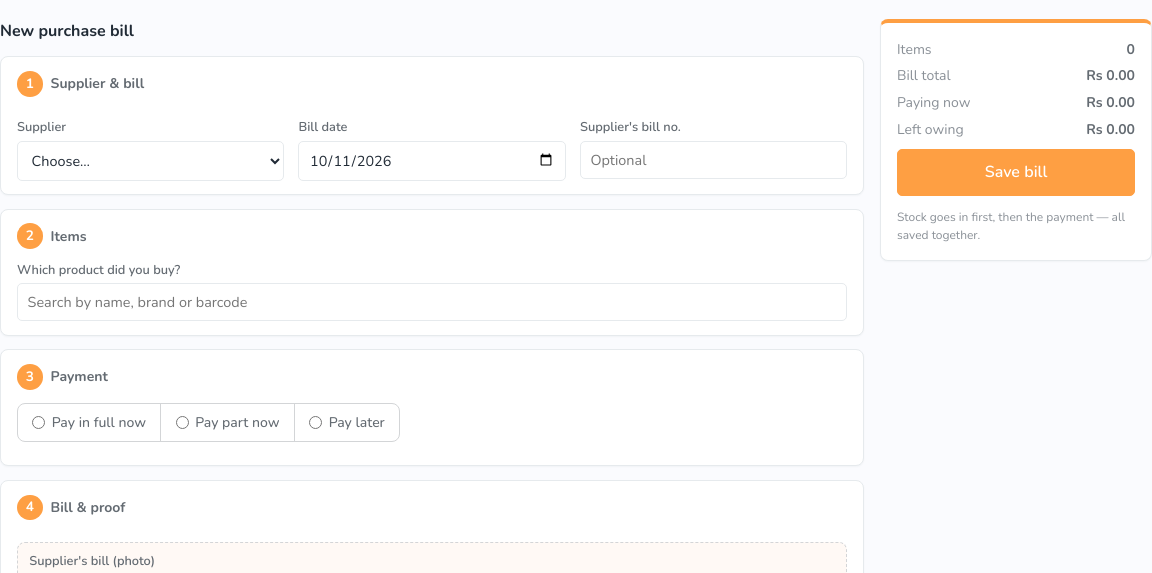
Test: buying a product that does not exist yet › creates nothing when the form is cancelled
Type "Wireless Charger" into the field labelled "Which product did you buy?" at {"x": 432, "y": 302}, box [17,283,847,321]
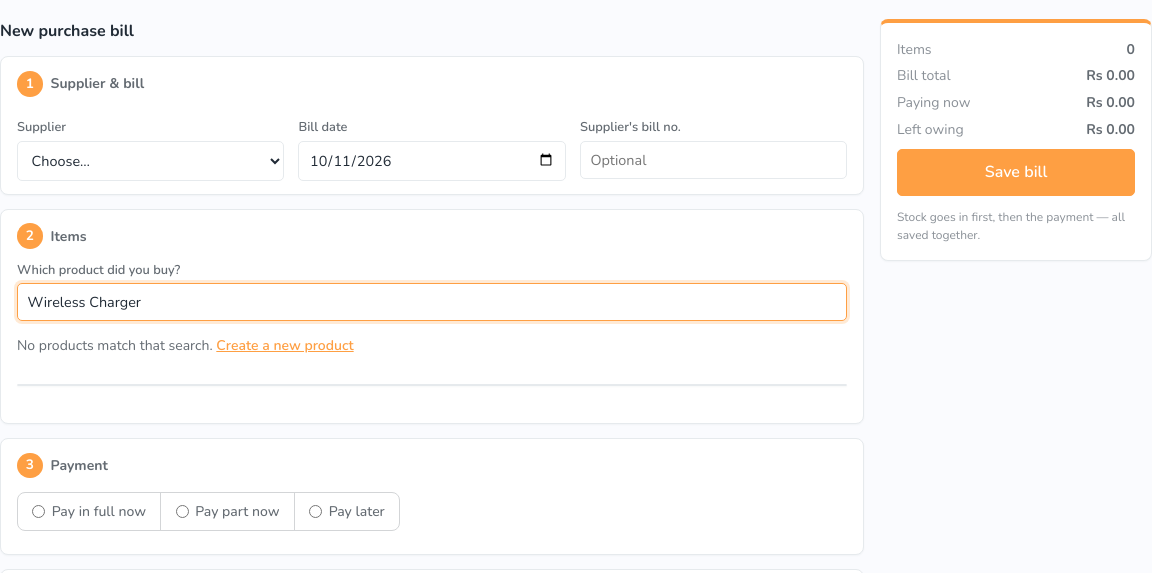
expect the text "No products match that search. Create a new product" is shown: met, box [17,335,354,356]
Click the button "Create a new product" at {"x": 285, "y": 346}, box [216,335,354,356]
(page scrolled)
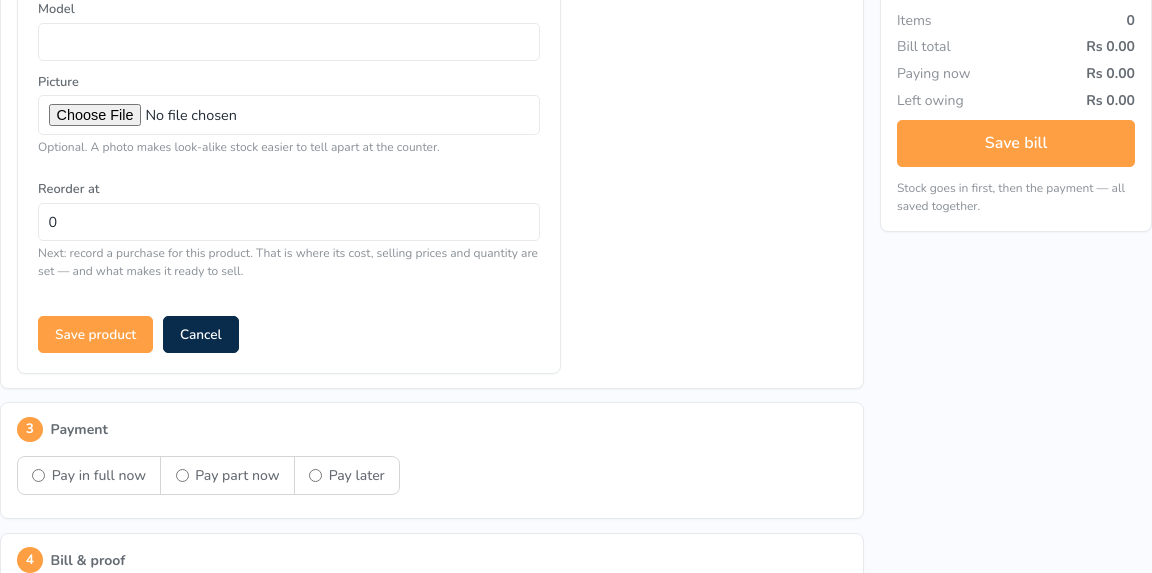
Click the button "Cancel" at {"x": 201, "y": 334}, box [163,316,239,353]
(page scrolled)
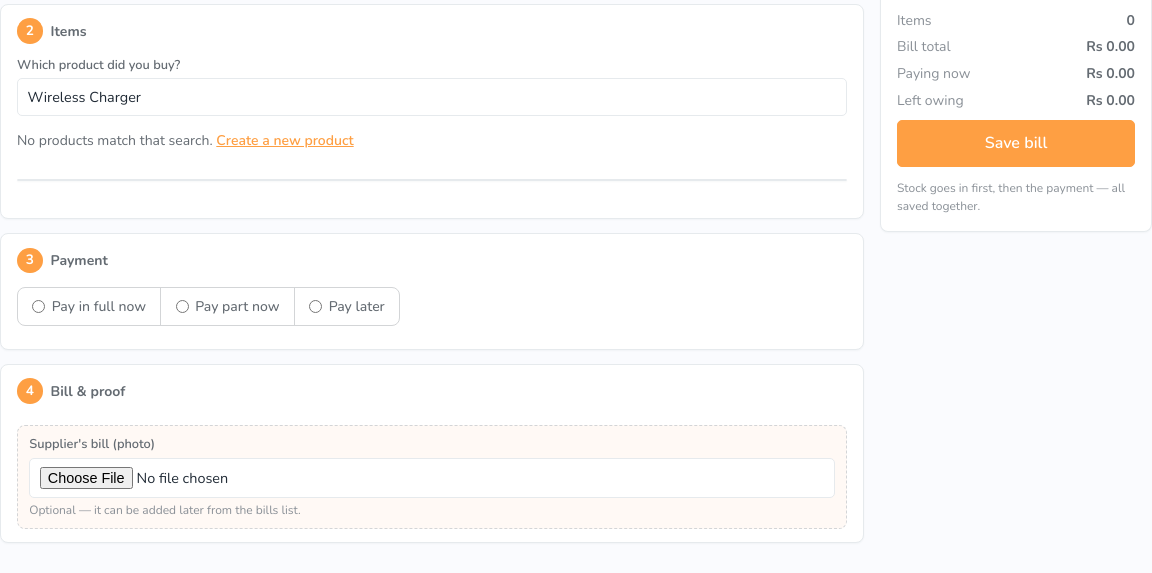
expect the field labelled "Which product did you buy?" is shown: met, box [17,78,847,116]
